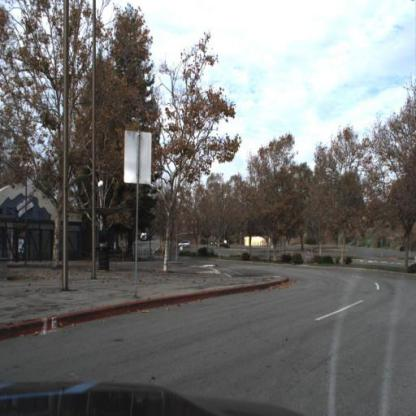car: (179, 239, 193, 252)
